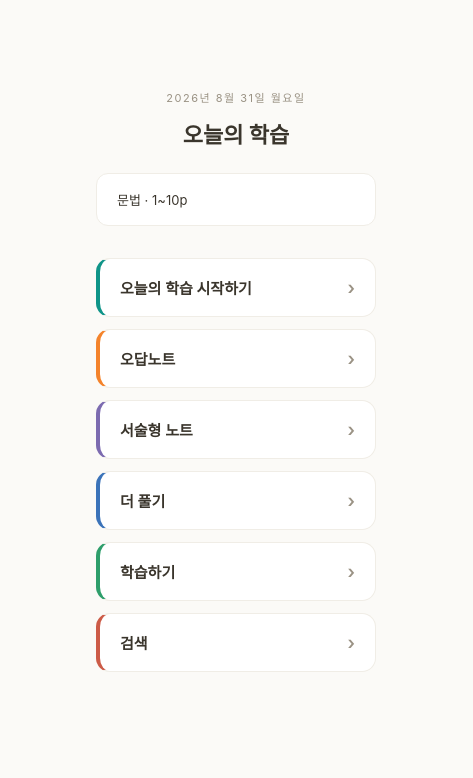
Test: Daily session page › shows the explanation and source page after answering a quiz question incorrectly
What coordinates should you click on to do the following:
click the button "오늘의 학습 시작하기 ›"
I would click on:
 (236, 287)
Its box is [96,258,376,316].
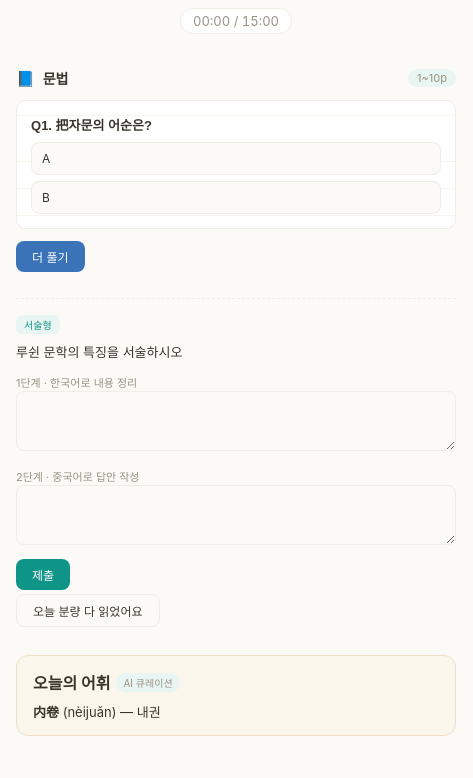
What coordinates should you click on to do the following:
click the button "A"
I would click on:
 (46, 158)
Its box is [31,142,441,175].
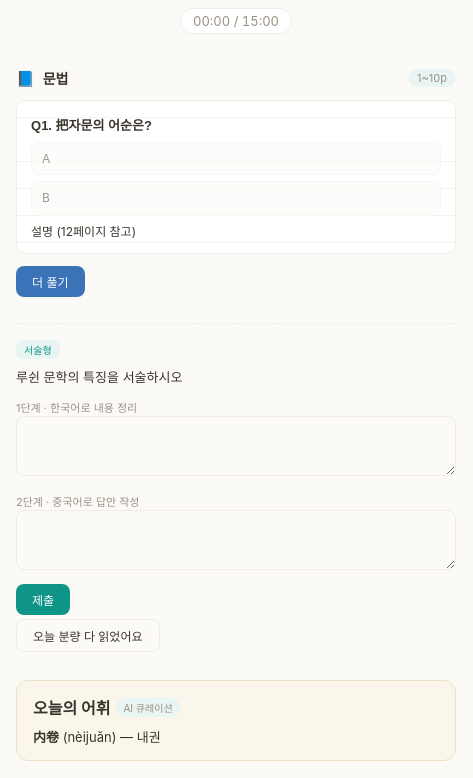
Result: the text "설명 (12페이지 참고)" is shown at [31,224,136,239]
